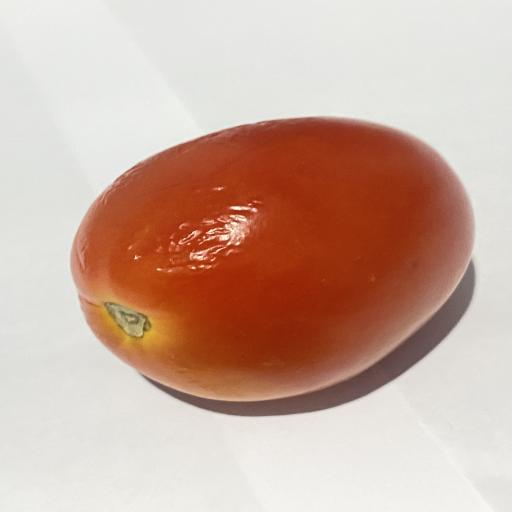spoiled: (71, 117, 474, 401)
